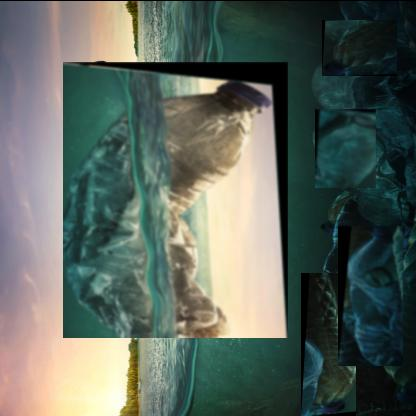bottle: (63, 60, 289, 337), (338, 222, 404, 364), (301, 271, 358, 415), (315, 107, 377, 187), (322, 16, 398, 74)
